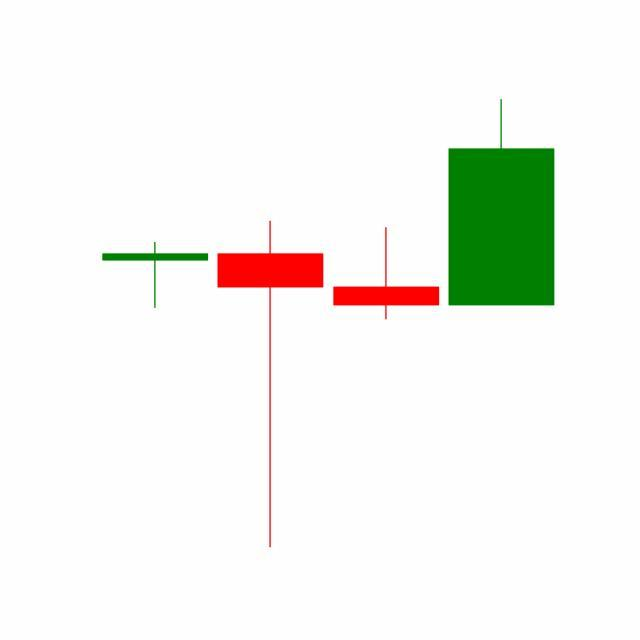Gravestone Doji: (329, 227, 445, 322)
